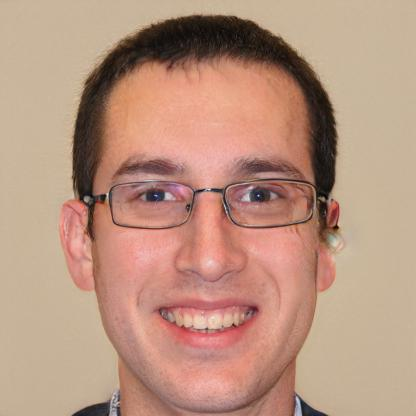glasses: (93, 176, 323, 235)
